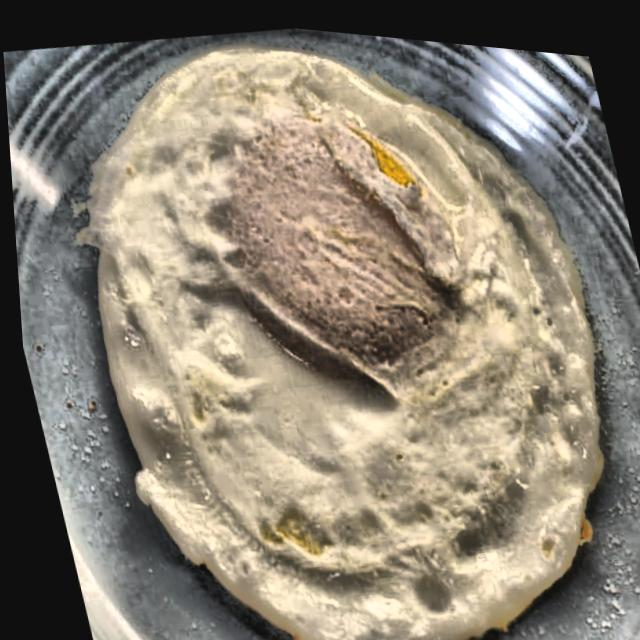Food: (25, 2, 640, 640)
